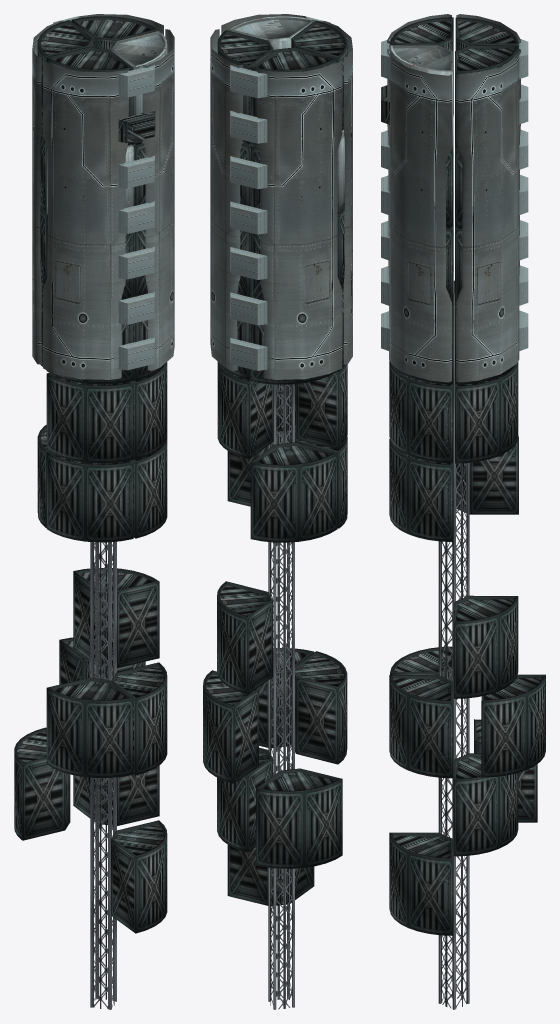
The model's file is CargoContainer Section.fbx.
The picture shows the model from 3 angles, left to right: view 1: azimuth 30°, elevation 25°; view 2: azimuth 150°, elevation 25°; view 3: azimuth 270°, elevation 25°; orthographic projection.
Parts seen in each view (by area): view 1: CargoContainterSection, CargoContainterSection.001, Cube.005; view 2: CargoContainterSection, CargoContainterSection.001, Cube.005; view 3: CargoContainterSection, CargoContainterSection.001, Cube.005.
Boxes of the visible parts, bbox=[...] form: CargoContainterSection: bbox=[14, 16, 167, 933]; CargoContainterSection.001: bbox=[32, 14, 174, 379]; Cube.005: bbox=[90, 541, 116, 1009]; CargoContainterSection: bbox=[203, 20, 347, 906]; CargoContainterSection.001: bbox=[210, 14, 352, 379]; Cube.005: bbox=[268, 384, 294, 1009]; CargoContainterSection: bbox=[381, 17, 545, 935]; CargoContainterSection.001: bbox=[381, 14, 528, 382]; Cube.005: bbox=[438, 280, 469, 1009].
Bounding box in the file's own units: 419 × 2866 × 447.
